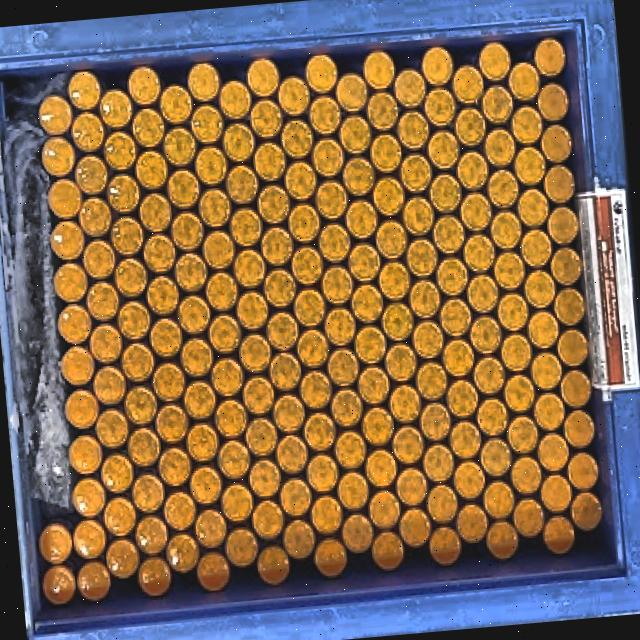vial: (41, 565, 76, 609), (36, 522, 72, 564), (213, 398, 247, 441), (40, 134, 75, 174), (66, 434, 102, 472), (64, 392, 99, 431), (77, 560, 111, 600), (484, 522, 518, 562), (304, 53, 338, 93), (139, 195, 173, 235), (536, 37, 569, 78), (280, 477, 312, 519), (256, 184, 288, 226), (154, 403, 188, 442), (96, 408, 129, 448), (388, 384, 421, 424), (368, 133, 401, 173), (126, 64, 159, 104), (225, 166, 258, 206), (49, 220, 82, 260), (52, 264, 87, 301), (70, 478, 104, 516), (390, 426, 424, 464), (73, 518, 105, 558), (440, 296, 472, 336), (536, 433, 568, 473), (564, 408, 596, 448), (538, 82, 570, 122), (429, 173, 461, 213), (319, 224, 351, 264), (125, 384, 156, 425), (460, 190, 490, 232), (385, 344, 418, 382), (551, 248, 584, 286), (187, 424, 219, 463), (372, 177, 404, 216), (184, 380, 215, 420), (258, 546, 289, 586), (254, 142, 285, 182), (203, 230, 234, 270), (59, 348, 93, 384), (225, 527, 258, 564), (100, 456, 132, 494), (104, 496, 136, 534), (132, 476, 164, 514), (158, 450, 190, 488), (190, 467, 222, 505), (222, 483, 254, 521), (238, 334, 270, 372), (300, 371, 332, 409), (364, 448, 396, 486), (426, 484, 458, 522), (429, 529, 461, 567), (478, 40, 510, 78), (514, 147, 546, 185), (517, 190, 549, 228), (542, 125, 574, 163), (286, 204, 318, 242), (246, 57, 278, 95), (250, 100, 282, 138), (68, 72, 100, 110), (218, 79, 250, 117), (87, 282, 119, 320), (544, 164, 575, 203), (348, 243, 379, 282), (103, 132, 134, 171), (122, 342, 153, 381), (448, 378, 478, 418), (560, 366, 590, 406), (492, 211, 522, 251), (426, 88, 456, 128), (260, 228, 290, 268), (172, 210, 202, 250), (217, 442, 250, 478), (306, 454, 339, 490), (128, 429, 160, 466), (268, 354, 300, 391), (297, 331, 329, 368), (310, 497, 342, 534), (484, 482, 516, 519), (188, 62, 220, 99), (194, 148, 226, 185), (116, 259, 148, 296), (165, 493, 196, 531), (334, 430, 365, 468), (521, 228, 552, 266), (402, 196, 433, 234), (309, 98, 340, 136), (74, 112, 105, 150), (79, 197, 110, 235), (550, 205, 580, 244), (316, 179, 346, 218), (278, 77, 308, 116), (429, 130, 458, 170), (282, 520, 314, 556), (89, 324, 121, 360), (530, 352, 562, 388), (290, 246, 322, 282), (192, 108, 224, 144), (174, 255, 206, 291), (228, 208, 260, 244), (394, 68, 425, 105), (76, 157, 107, 194), (108, 540, 138, 578), (136, 516, 166, 554), (250, 460, 280, 498), (355, 326, 385, 364), (468, 272, 498, 310), (572, 492, 602, 530), (482, 84, 512, 122), (455, 108, 485, 146), (364, 50, 394, 88), (336, 74, 366, 112), (346, 200, 376, 238), (83, 240, 113, 278), (316, 541, 345, 580), (488, 171, 517, 210), (265, 269, 294, 308), (176, 298, 209, 332), (153, 364, 185, 399), (382, 304, 414, 339), (38, 98, 70, 133), (110, 219, 142, 254), (94, 366, 125, 402), (246, 420, 277, 456), (253, 502, 284, 538), (498, 294, 529, 330), (533, 392, 564, 428), (284, 162, 315, 198), (152, 319, 182, 356), (182, 338, 212, 375), (400, 507, 430, 544), (434, 215, 464, 252), (132, 109, 162, 146), (224, 125, 254, 162), (163, 128, 193, 165), (200, 188, 230, 225), (168, 171, 198, 208), (136, 153, 166, 190), (234, 249, 264, 286), (268, 312, 297, 350), (120, 302, 149, 340), (325, 308, 354, 346), (420, 402, 449, 440), (569, 451, 598, 489), (376, 219, 405, 257), (341, 116, 370, 154), (283, 120, 312, 158), (160, 86, 189, 124), (272, 398, 304, 432), (58, 306, 90, 340), (394, 469, 426, 503), (554, 291, 586, 325), (243, 378, 274, 413), (330, 389, 361, 424), (337, 474, 368, 509), (140, 558, 170, 594), (198, 553, 228, 589), (212, 357, 242, 393), (148, 278, 178, 314), (350, 284, 380, 320), (358, 368, 388, 404), (378, 262, 408, 298), (410, 281, 440, 317), (417, 362, 447, 398), (424, 444, 454, 480), (436, 258, 466, 294), (444, 340, 474, 376), (456, 506, 486, 542), (510, 458, 540, 494), (558, 330, 588, 366), (144, 235, 174, 271), (407, 239, 436, 276), (512, 106, 540, 144), (458, 150, 486, 188), (367, 94, 398, 128), (107, 176, 138, 210), (474, 359, 504, 394), (494, 252, 524, 287), (504, 377, 534, 412), (514, 499, 544, 534), (524, 272, 554, 307), (401, 154, 431, 189), (212, 314, 241, 350), (343, 516, 372, 552), (510, 63, 539, 99), (343, 158, 372, 194), (101, 90, 130, 126), (486, 128, 514, 165), (466, 233, 494, 270), (454, 65, 482, 102), (314, 140, 342, 177), (48, 180, 79, 213), (238, 292, 268, 326), (323, 268, 353, 302), (450, 423, 480, 457), (482, 440, 512, 474), (528, 312, 558, 346), (398, 112, 428, 146), (305, 414, 334, 449), (170, 536, 198, 572), (296, 290, 324, 326), (370, 492, 398, 528), (455, 463, 483, 499), (425, 46, 453, 82), (472, 319, 501, 353), (479, 398, 508, 432), (208, 273, 236, 308), (280, 435, 306, 472), (540, 478, 570, 510), (328, 349, 357, 382), (196, 511, 224, 545), (508, 418, 536, 452), (371, 532, 402, 562), (413, 324, 442, 356), (545, 518, 574, 550), (364, 411, 393, 442), (504, 336, 530, 368)
